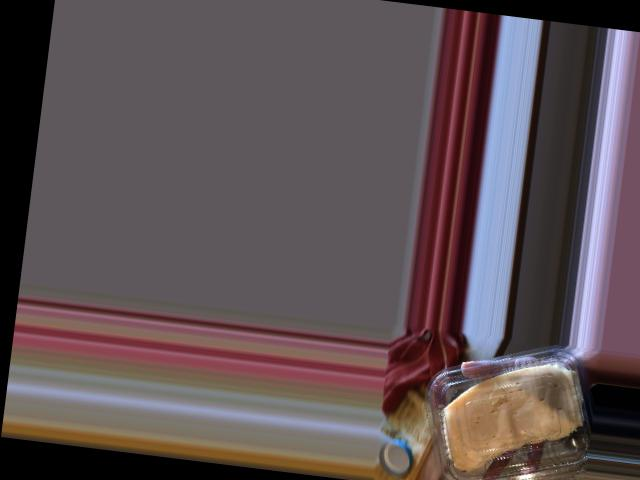cheese: (413, 340, 601, 480)
